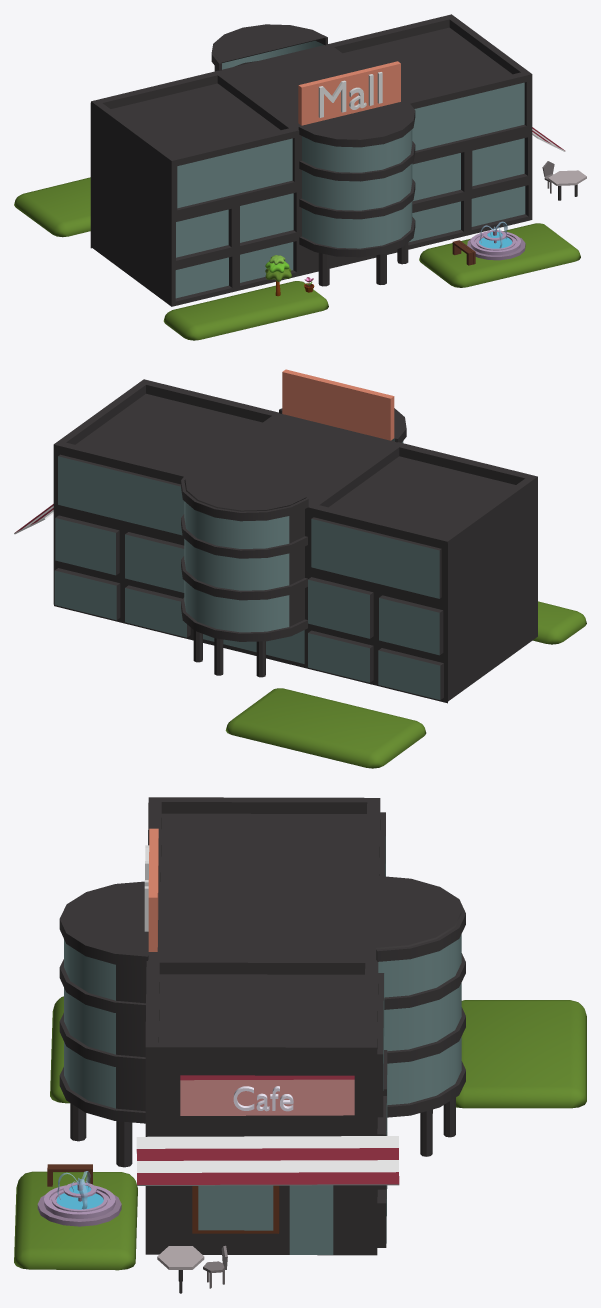
Rendered from Commercial5 .fbx.
3 views of the same model, one above another, from view 1: azimuth 30°, elevation 25°; view 2: azimuth 150°, elevation 25°; view 3: azimuth 270°, elevation 25° (orthographic). The views are drawn at different scales.
Visible parts, largest first — view 1: Main mall, Garden 1, Garden2, Garden 3, Fountain, tree3.003, table; view 2: Main mall, Garden 3, Garden 1; view 3: Main mall, Garden 3, Garden2, Fountain, Garden 1, table.
Boxes of the visible parts, x1,y1,x2,y2 form: Main mall: (90,14,565,306); Garden 1: (163,281,328,340); Garden2: (419,223,580,287); Garden 3: (14,177,90,237); Fountain: (467,221,525,260); tree3.003: (265,255,291,296); table: (548,170,586,200); Main mall: (14,369,537,703); Garden 3: (225,688,426,768); Garden 1: (533,601,586,644); Main mall: (59,797,465,1255); Garden 3: (456,1000,586,1108); Garden2: (14,1171,137,1270); Fountain: (37,1171,121,1226); Garden 1: (50,996,69,1103); table: (157,1246,204,1293).
Bounding box in the file's own units: 252 × 108 × 201.
